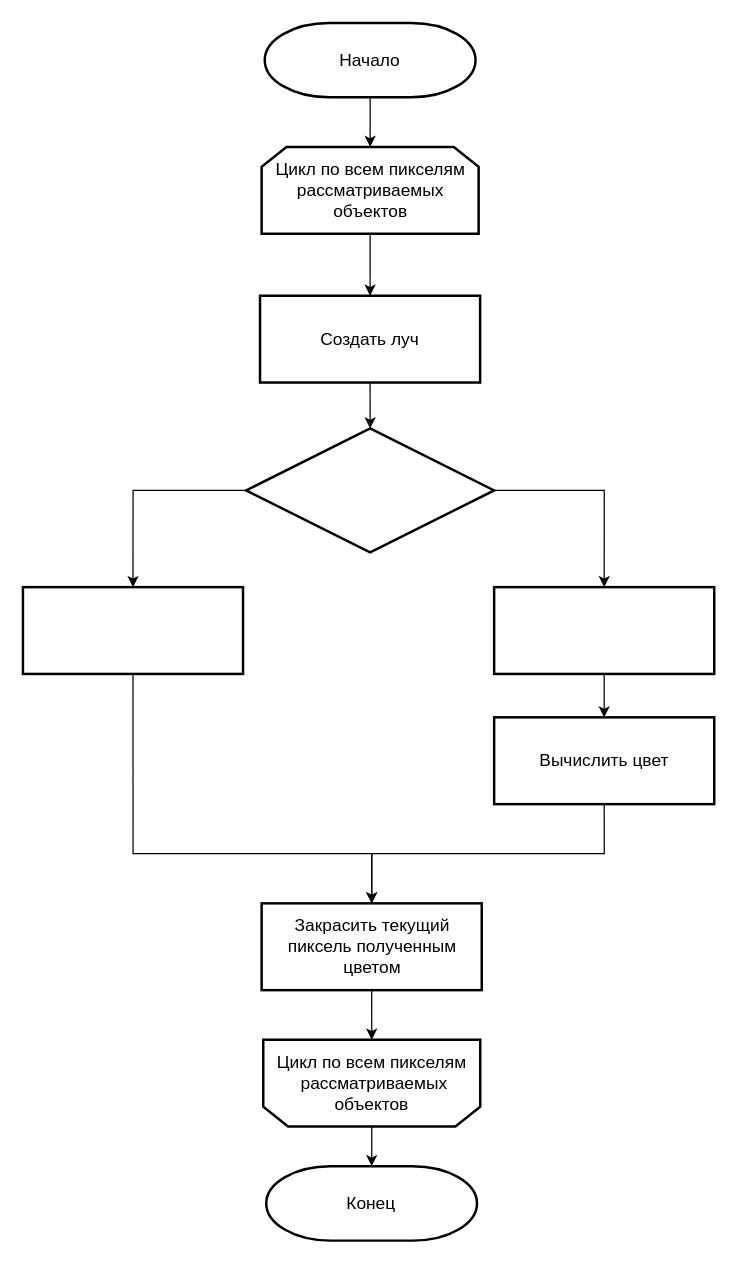
Image size: 737x1262. Some labels were removed from this diagram. The centre of each missing label's shape, as x and y in pixels:
"Луч пересекает объект" goes at pixel 369 490.
"Проверить тени и отражения" goes at pixel 603 630.
"Цвет = цвет фона" goes at pixel 132 630.
